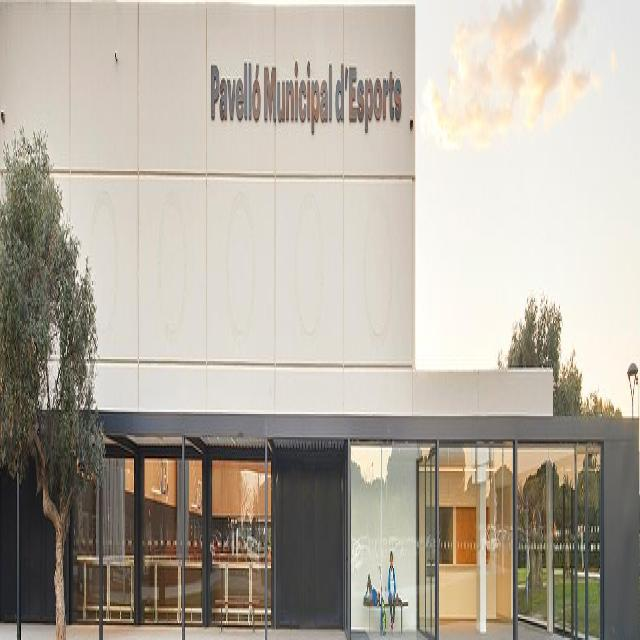door: (575, 443, 602, 638)
window: (438, 446, 514, 638), (139, 450, 203, 623), (70, 454, 134, 624), (518, 446, 574, 638), (209, 459, 271, 625), (416, 440, 437, 638)
